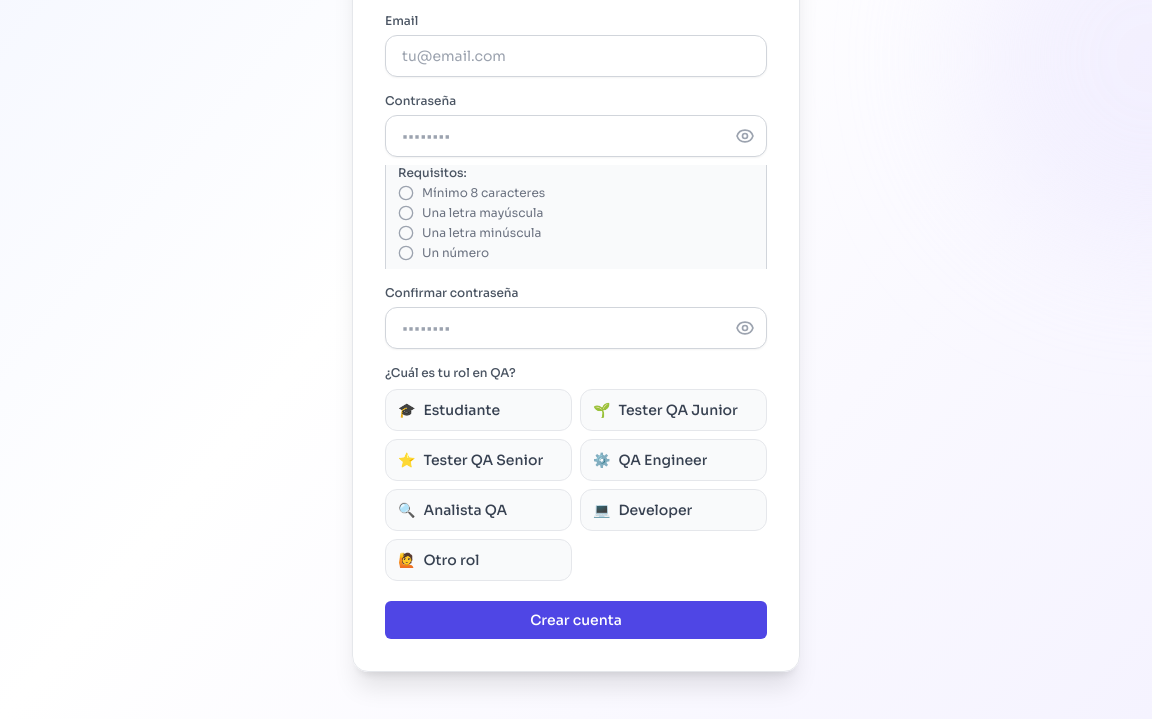
Test: RegisterForm › Form Validation › muestra error si el nombre está vacío
(page scrolled)
Click the button "Crear cuenta": (576, 620) [385,600,767,638]
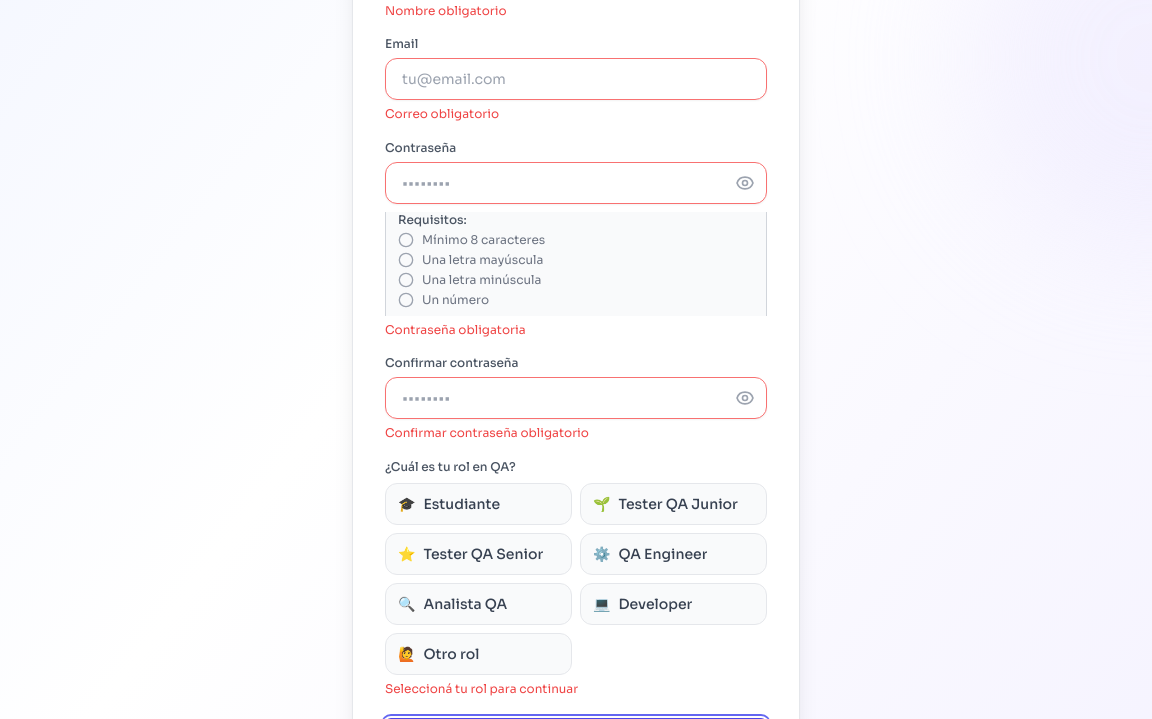
expect the text "Nombre obligatorio" is shown: met, box [385,2,506,18]
